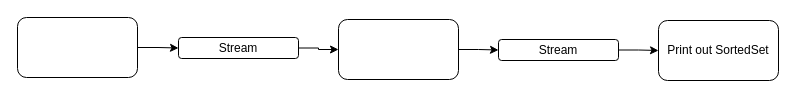
Image size: 796x98. Some labels were removed from this diagram. Here are the shapes that lost their labels. From the top down, the centre of each, then its label:
[77,47]: Get words from text file
[398,49]: Store words in a SortedSet
